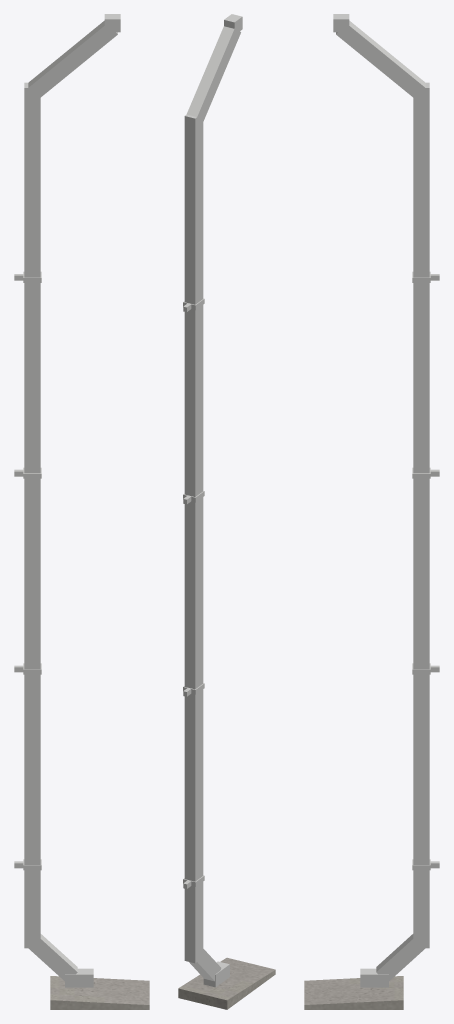
The model's file is downspout_house.glb.
The picture shows the model from 3 angles, left to right: view 1: azimuth 90°, elevation 25°; view 2: azimuth 150°, elevation 25°; view 3: azimuth 270°, elevation 25°; orthographic projection.
Parts seen in each view (by area): view 1: downspout_house_gutter, downspout_house_concrete; view 2: downspout_house_gutter, downspout_house_concrete; view 3: downspout_house_gutter, downspout_house_concrete.
Boxes of the visible parts, x1=… form: downspout_house_gutter: x1=14, y1=14, x2=120, y2=987; downspout_house_concrete: x1=50, y1=976, x2=149, y2=1009; downspout_house_gutter: x1=183, y1=14, x2=242, y2=987; downspout_house_concrete: x1=178, y1=957, x2=275, y2=1009; downspout_house_gutter: x1=333, y1=14, x2=439, y2=987; downspout_house_concrete: x1=304, y1=976, x2=403, y2=1009.
Bounding box in the file's own units: 0.32 × 6.01 × 0.75.
Materials: 2 (1 with a texture image).
